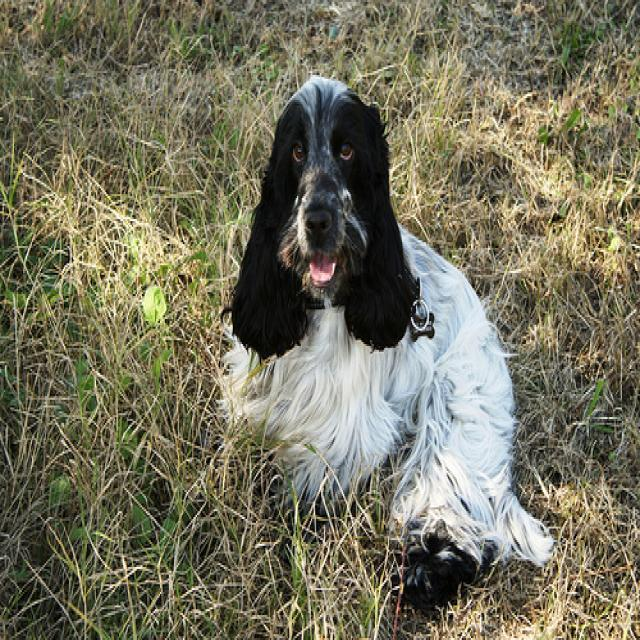dog-english_cocker_spaniel: (212, 65, 558, 634)
